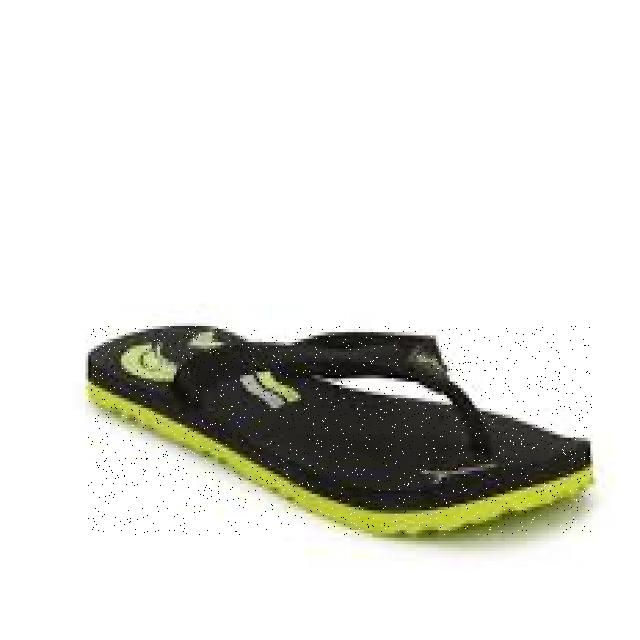other: (88, 326, 593, 535)
